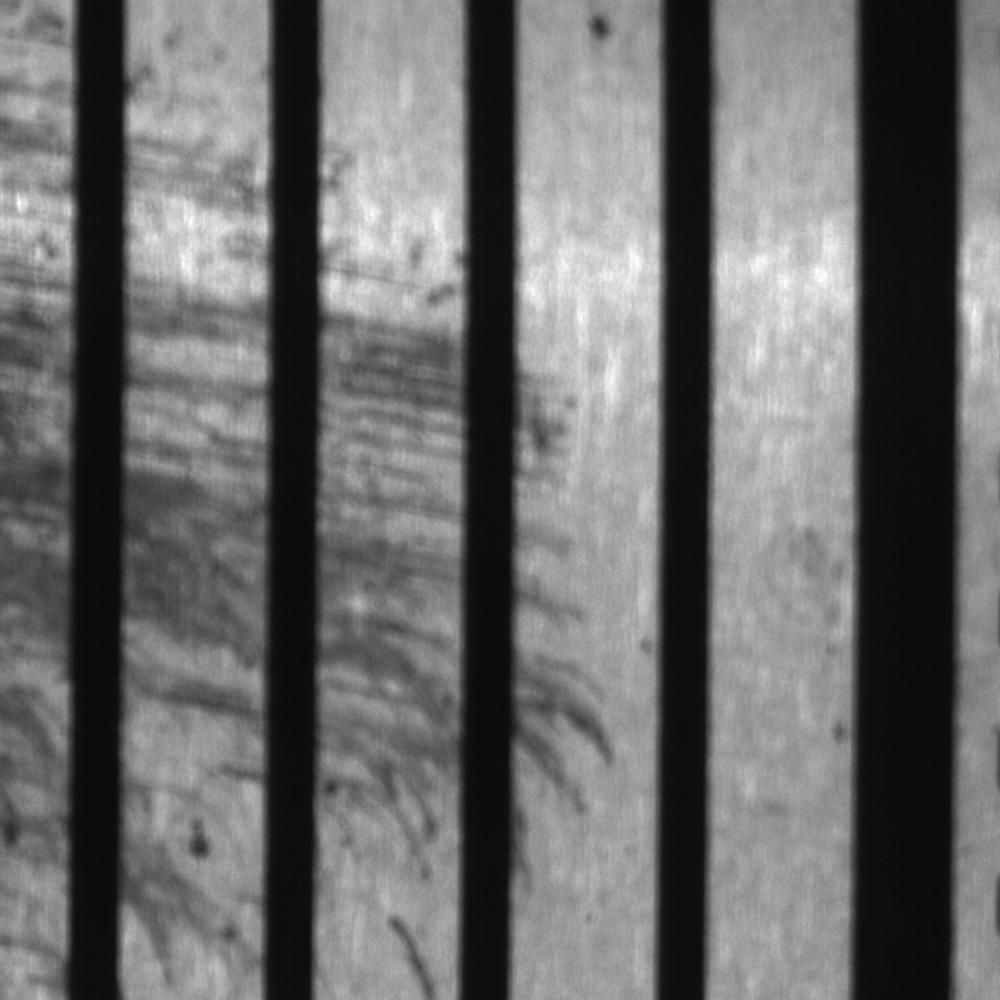Discolor: (125, 40, 270, 433), (318, 499, 460, 887), (123, 436, 267, 732), (323, 271, 470, 485), (123, 768, 264, 987), (518, 318, 611, 625), (511, 633, 622, 857), (1, 1, 75, 277), (2, 471, 74, 718), (1, 729, 68, 989), (1, 281, 74, 463)
Etching: (795, 505, 858, 759), (573, 3, 629, 64)
